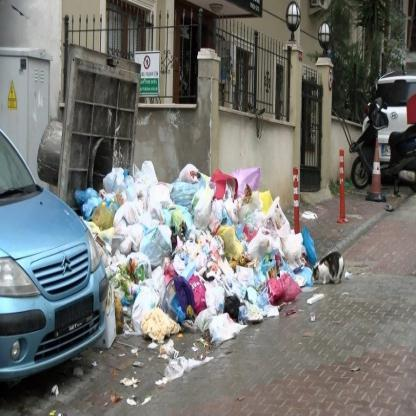Garbage: (98, 224, 228, 354), (187, 166, 290, 328), (107, 172, 220, 255), (274, 232, 314, 286), (82, 186, 126, 226)
